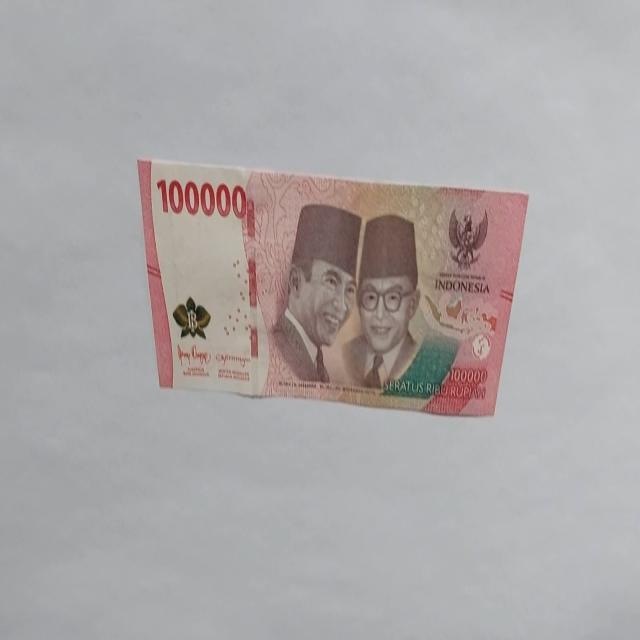seratus ribu rupiah: (136, 156, 530, 418), (272, 202, 362, 385)
